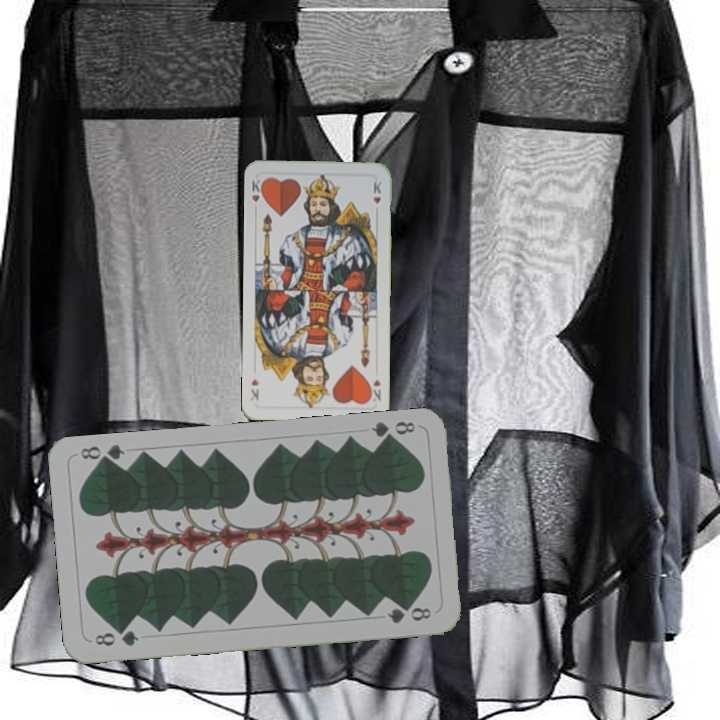G8: (367, 417, 418, 445), (90, 625, 142, 649)
HK: (247, 175, 267, 205), (365, 375, 383, 403)
